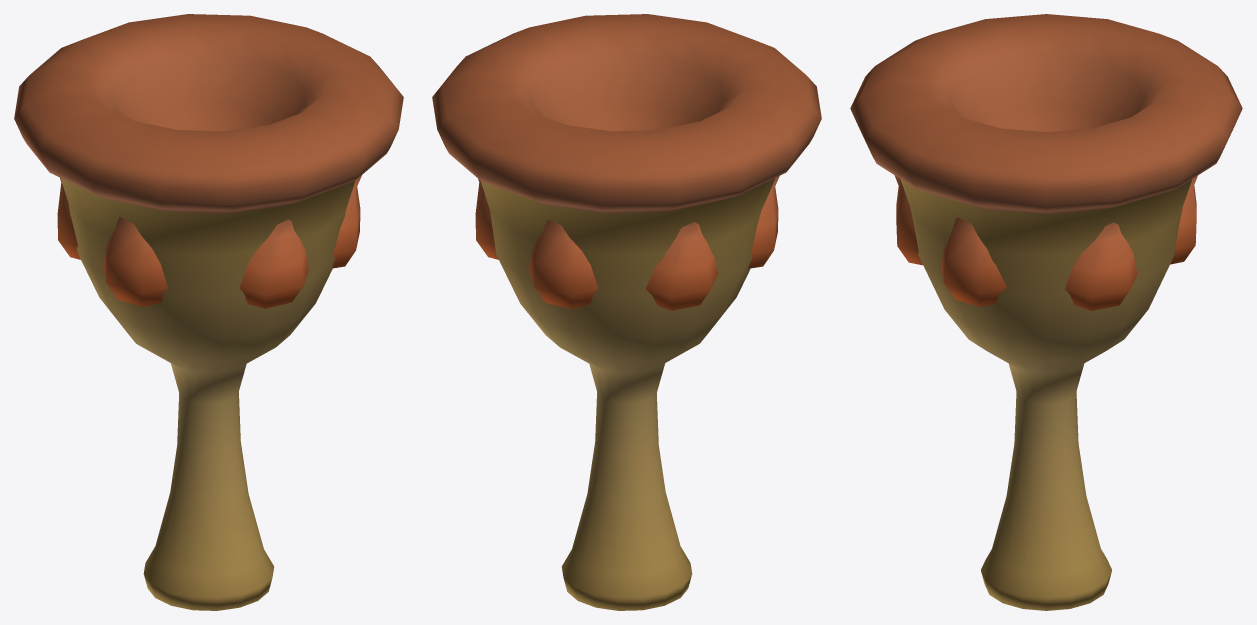
The model's file is OBJ_ChaliceMushroom.fbx.
3 renders of one model, left to right at view 1: azimuth 30°, elevation 25°; view 2: azimuth 150°, elevation 25°; view 3: azimuth 270°, elevation 25°, orthographic.
Visible parts, largest first — view 1: OBJ_ChaliceMushroom; view 2: OBJ_ChaliceMushroom; view 3: OBJ_ChaliceMushroom.
Boxes of the visible parts, x1=… form: OBJ_ChaliceMushroom: x1=14, y1=14, x2=403, y2=610; OBJ_ChaliceMushroom: x1=432, y1=14, x2=821, y2=610; OBJ_ChaliceMushroom: x1=850, y1=14, x2=1242, y2=610.
Bounding box in the file's own units: 42.84 × 60.64 × 42.84.
